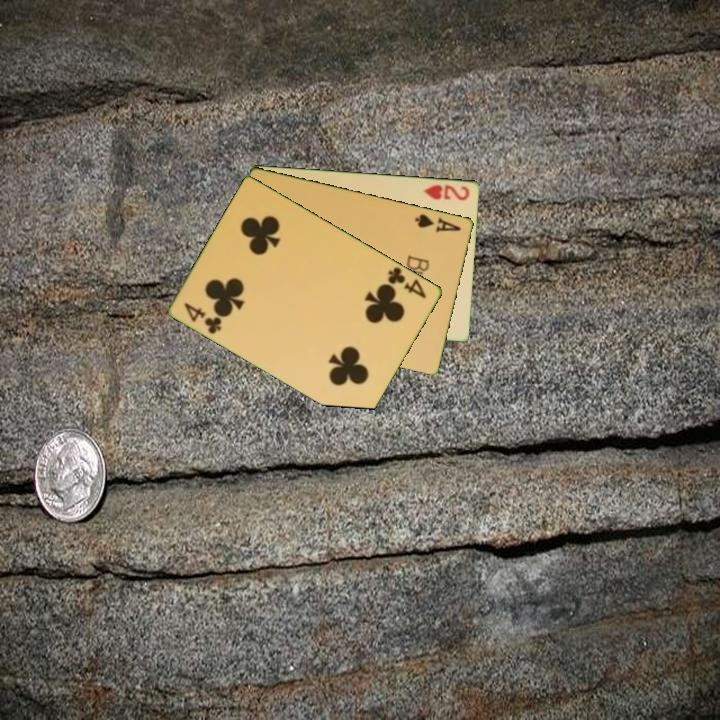2h: (421, 181, 472, 203)
4c: (384, 263, 430, 301), (181, 299, 225, 337)
As: (412, 210, 464, 235)
